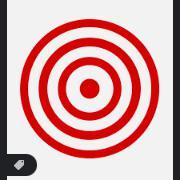target_red: (19, 17, 159, 159)
